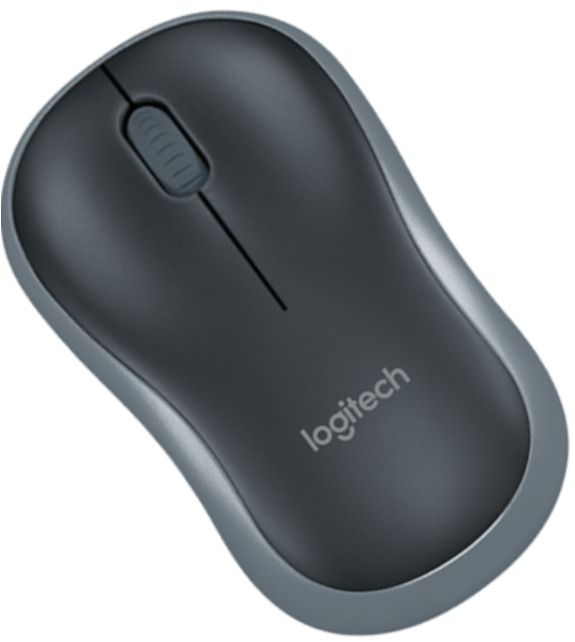logitech-mouse-m185: (1, 2, 571, 639)
